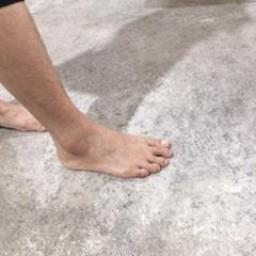Lateral View -Right Foot-: (29, 114, 176, 185)
